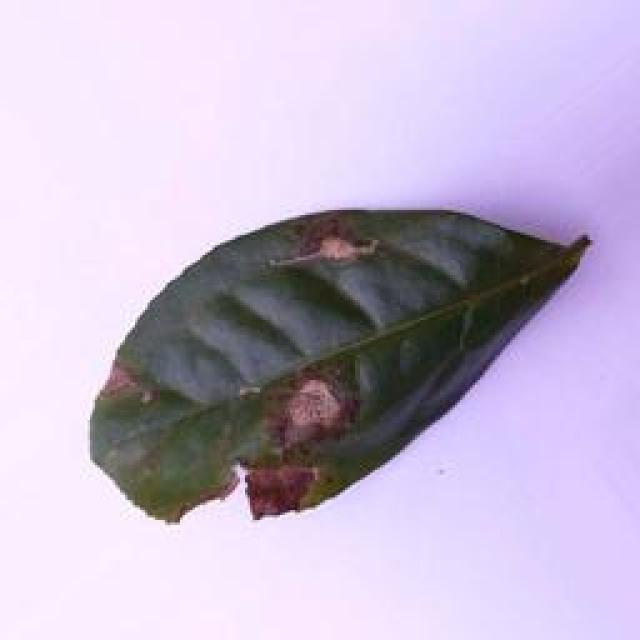Gray Blight: (84, 203, 593, 532)
